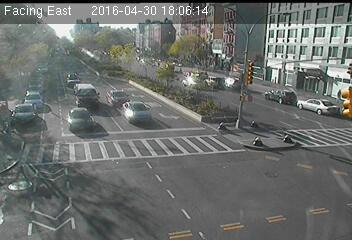neg: (176, 86, 188, 102), (173, 63, 184, 78), (138, 66, 148, 79), (155, 67, 165, 80)
pos: (335, 88, 348, 104), (7, 117, 19, 132)
